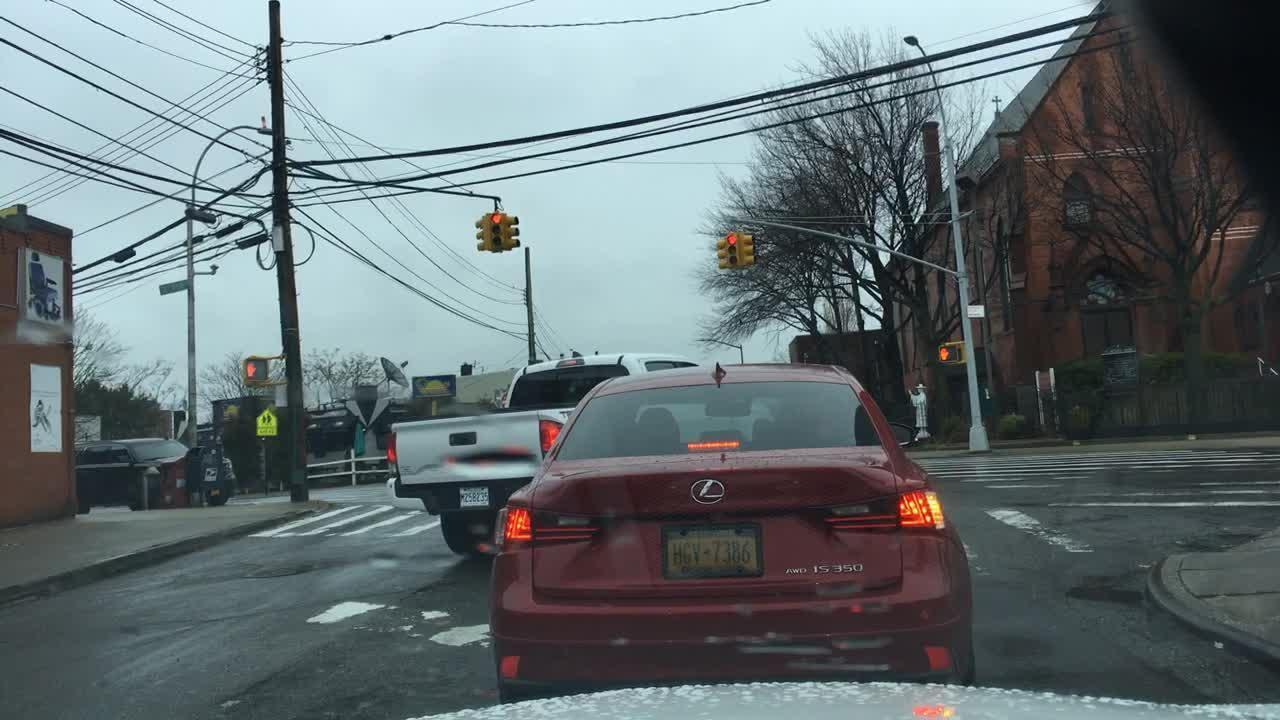lexus: (674, 463, 746, 519)
